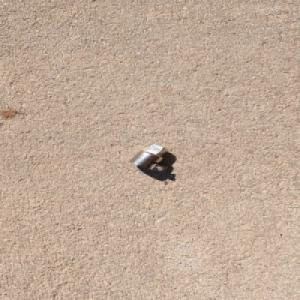MetalPart: (128, 143, 169, 172)
